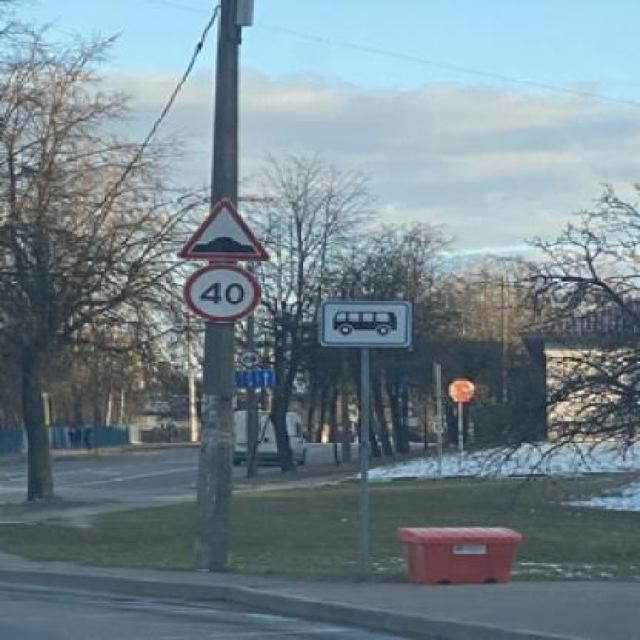forb_speed_over_40: (183, 263, 257, 322)
